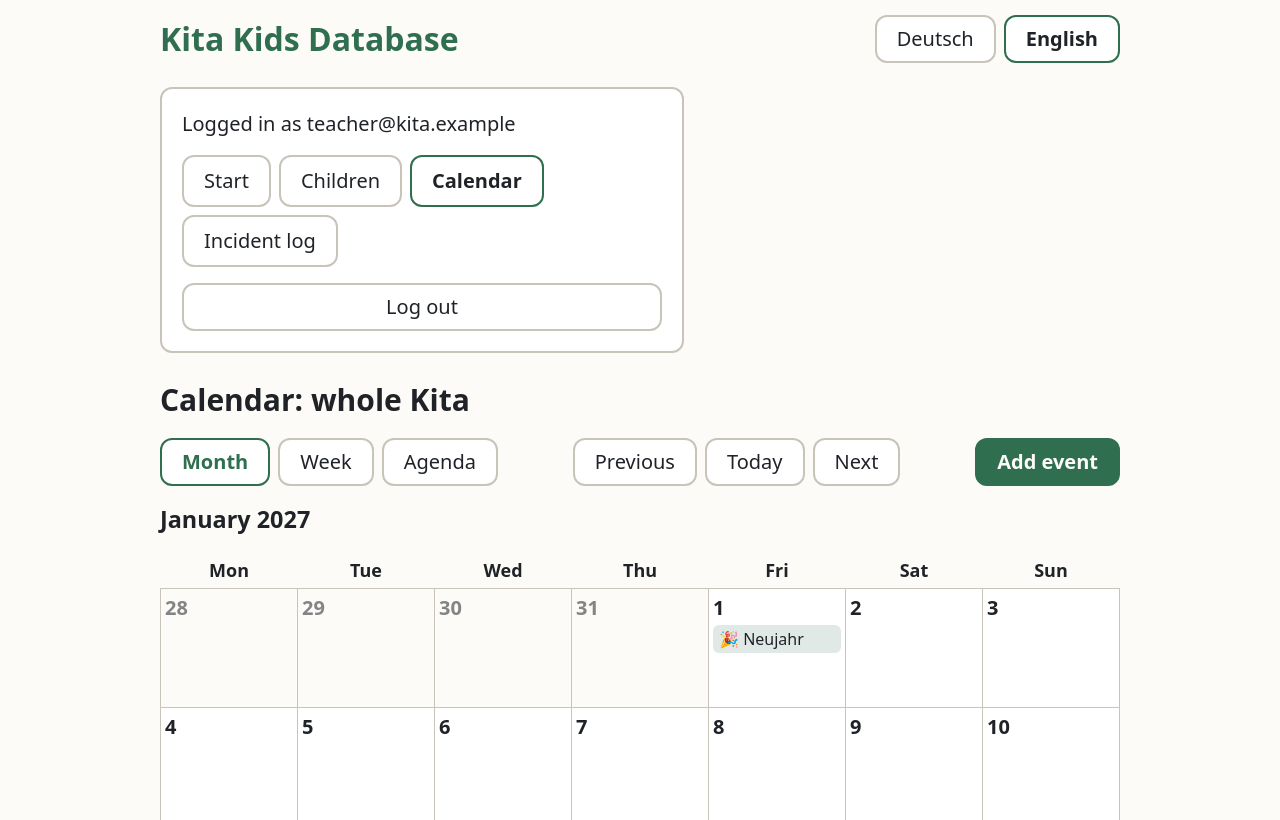
Scenario: Calendar › shows Children’s birthdays and the holidays
Expected: the cell named "1 January" shows "Neujahr", [743, 628, 804, 650]
What coordinates should you click on to do the following:
click the button "Agenda"
I would click on:
 (440, 462)
Its box is [382, 438, 498, 486].
(page scrolled)
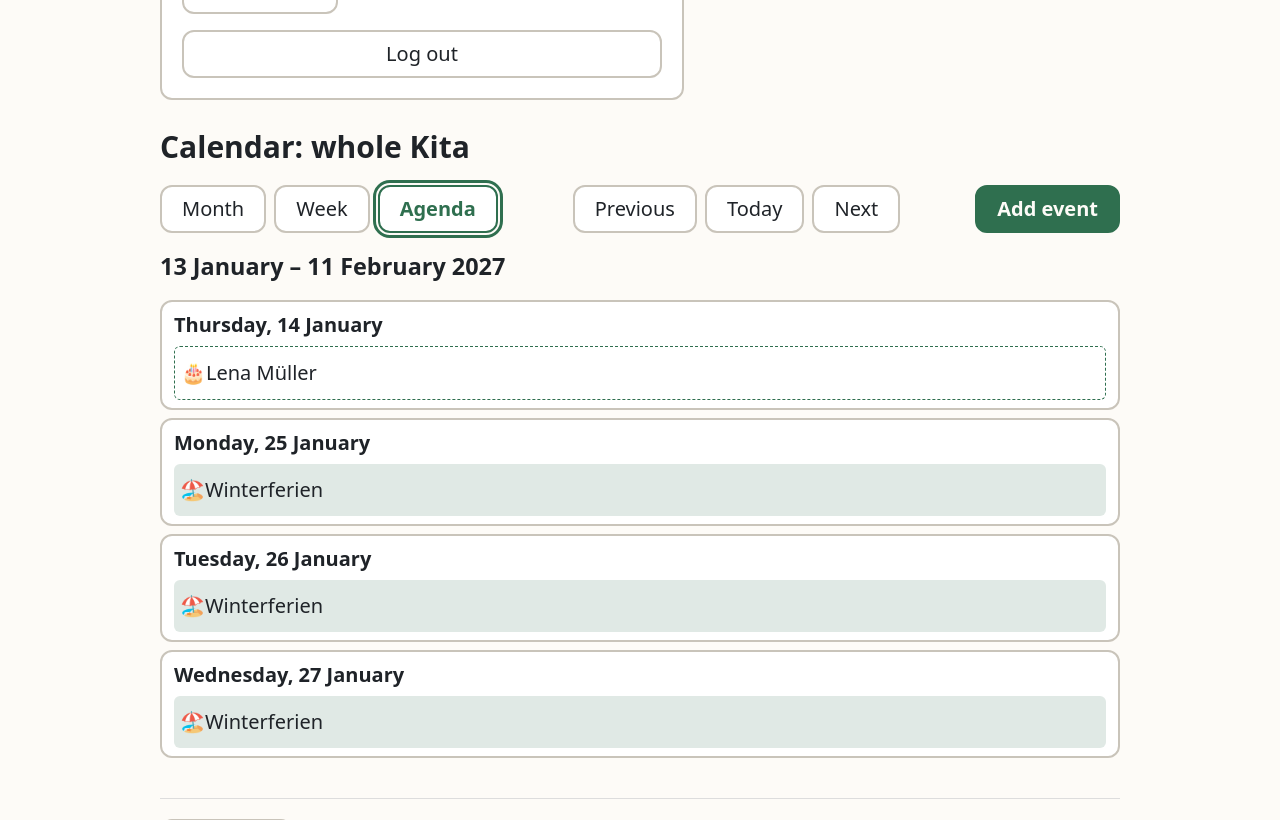
Expected: the element "Thursday, 14 January" shows "Lena Müller", [160, 300, 1120, 410]
Expected: the element "Tuesday, 26 January" shows "Winterferien", [205, 592, 323, 619]
